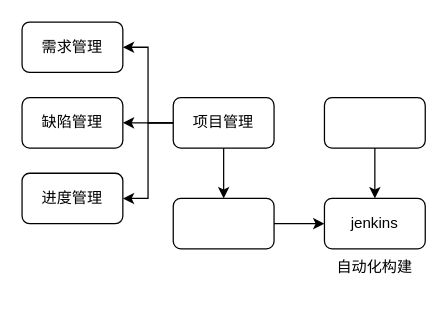
Some shapes in this 447 by 309 pixel diagram are drawn without their labels. Each missing label, with the centre of its shape:
"gitlab" goes at (374,122).
"TAPD" goes at (223,223).
